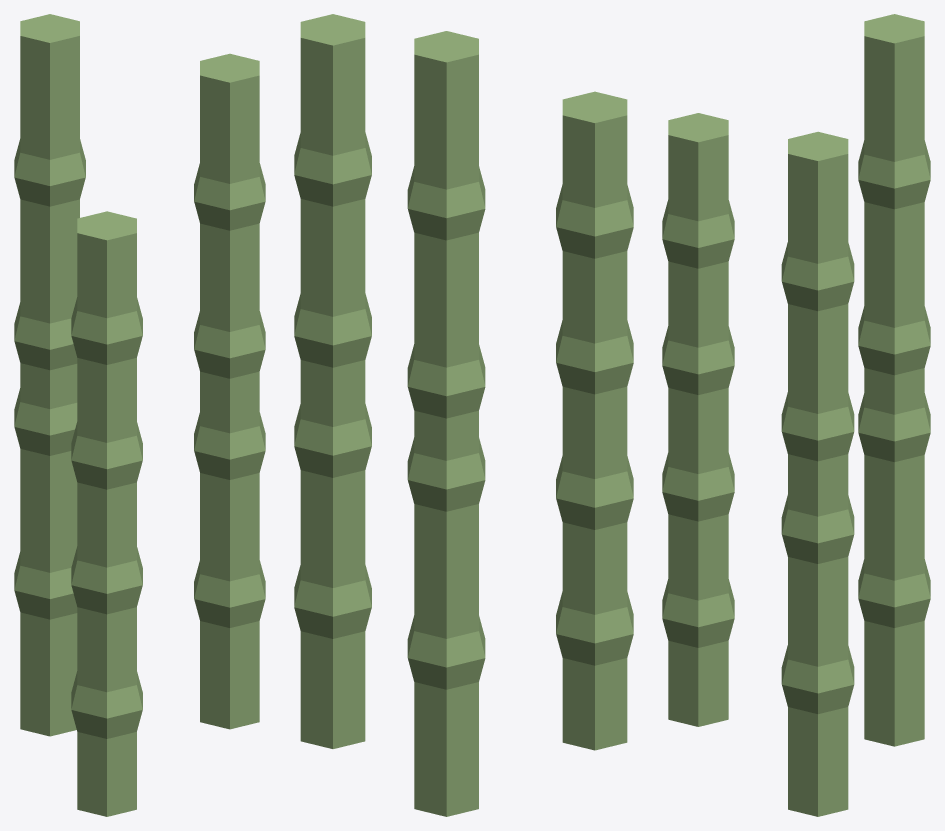
File: crops_bambooStageB.glb
3 views of the same model, side by side, from view 1: azimuth 30°, elevation 25°; view 2: azimuth 150°, elevation 25°; view 3: azimuth 270°, elevation 25° (orthographic). The views are drawn at different scales.
Parts seen in each view (by area): view 1: crops_bambooStageB; view 2: crops_bambooStageB; view 3: crops_bambooStageB.
Part boxes in pixels (left/top/right/bottom): crops_bambooStageB: left=14, top=14, right=265, bottom=816; crops_bambooStageB: left=294, top=14, right=633, bottom=816; crops_bambooStageB: left=662, top=14, right=930, bottom=816.
Bounding box in the file's own units: 0.3401 × 0.89 × 0.308.
